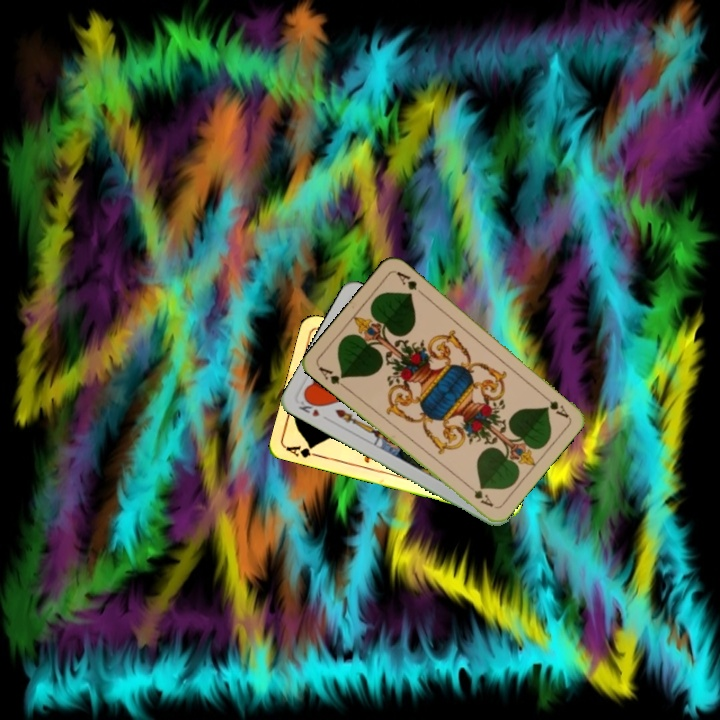GA: (314, 362, 350, 392), (537, 389, 571, 420), (283, 441, 323, 460)
HK: (295, 394, 323, 419)
